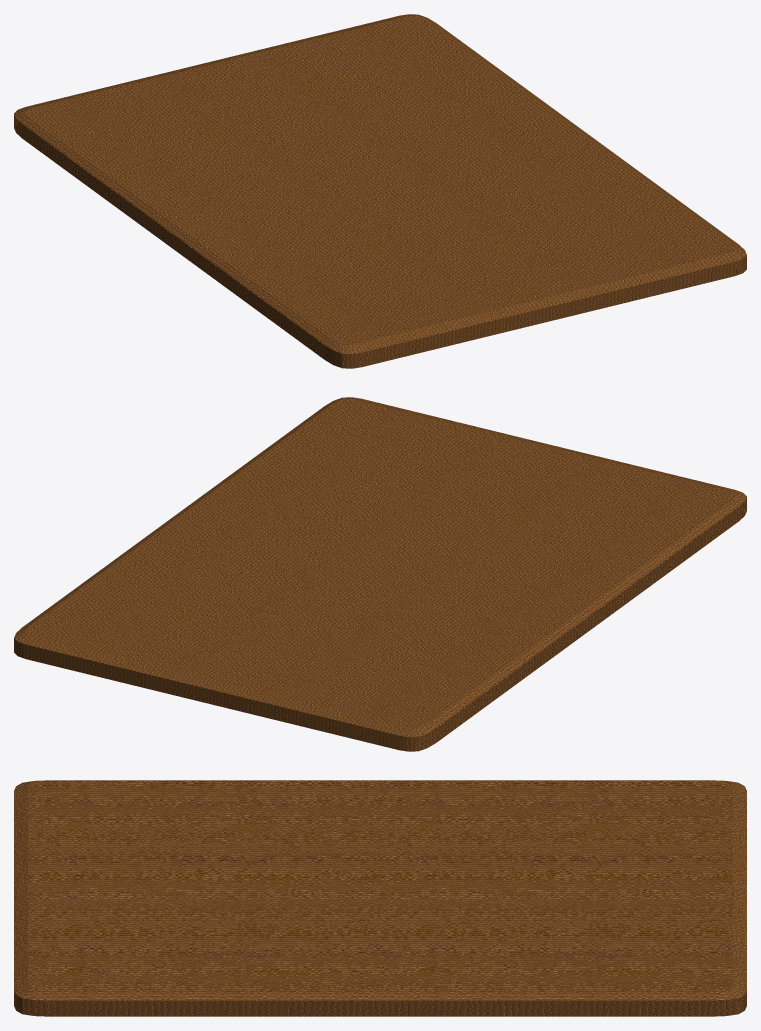
File: DinnerMat.FBX
The picture shows the model from 3 angles, top to bottom: view 1: azimuth 30°, elevation 25°; view 2: azimuth 150°, elevation 25°; view 3: azimuth 270°, elevation 25°; orthographic projection. The views are drawn at different scales.
Visible parts, largest first — view 1: Box001; view 2: Box001; view 3: Box001.
Part boxes in pixels (x1=…): Box001: x1=14, y1=14, x2=746, y2=368; Box001: x1=14, y1=397, x2=746, y2=751; Box001: x1=14, y1=780, x2=746, y2=1016.
Bounding box in the file's own units: 32.42 × 1.36 × 45.55.
Materials: 1 (1 with a texture image).
